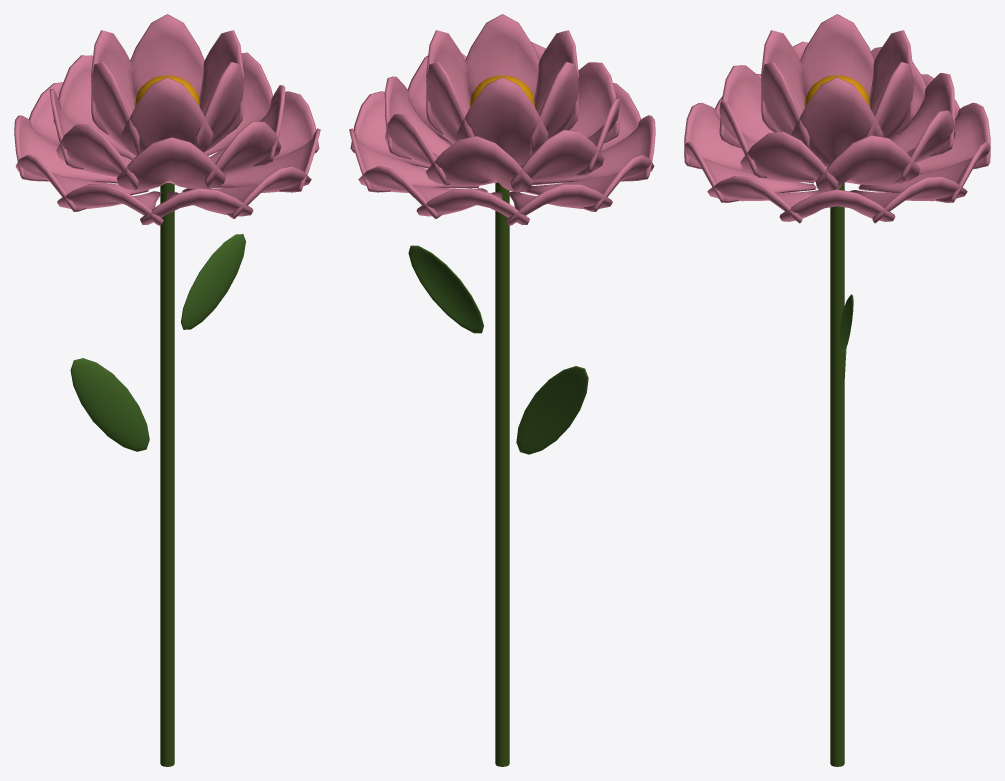
The model's file is F07-palette-v1.glb.
3 renders of one model, left to right at view 1: azimuth 30°, elevation 25°; view 2: azimuth 150°, elevation 25°; view 3: azimuth 270°, elevation 25°, orthographic.
Parts seen in each view (by area): view 1: F07_palette; view 2: F07_palette; view 3: F07_palette.
Part boxes in pixels (x1,y1,x2,y2): F07_palette: (14,14,320,766); F07_palette: (349,14,655,766); F07_palette: (684,14,990,766).
Bounding box in the file's own units: 0.2596 × 0.6702 × 0.2592.
